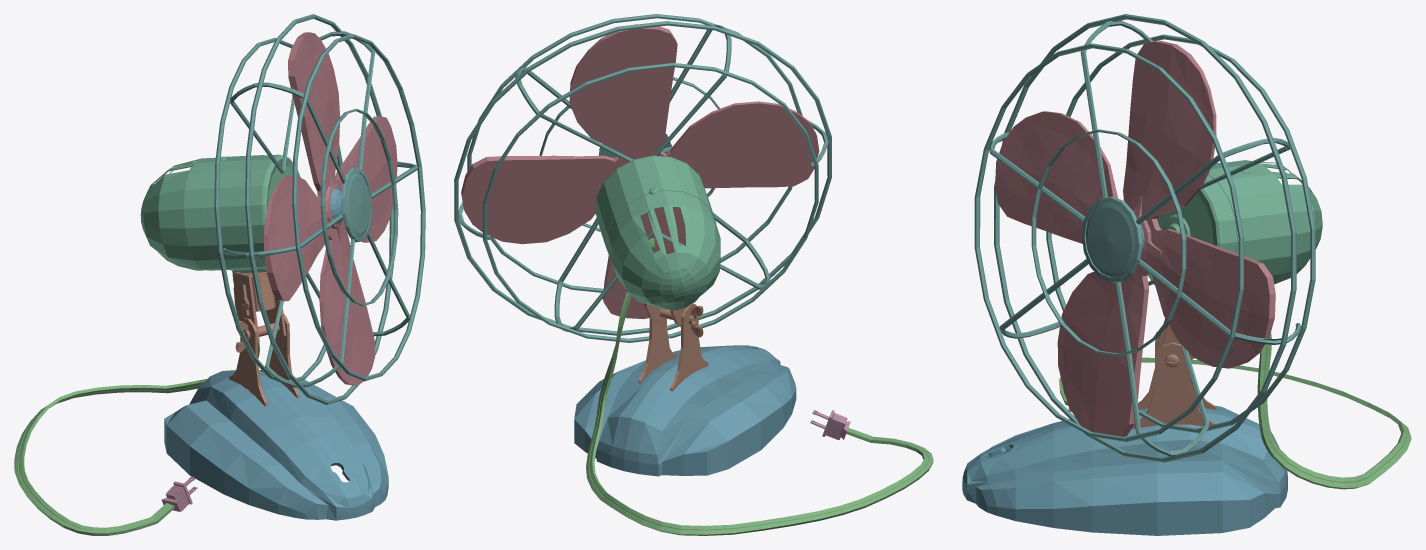
The model's file is dcf35ae14df9_seg.glb.
3 renders of one model, left to right at view 1: azimuth 30°, elevation 25°; view 2: azimuth 150°, elevation 25°; view 3: azimuth 270°, elevation 25°, orthographic. The views are drawn at different scales.
Visible parts, largest first — view 1: p00, p02, p03, p04, p01, p06, p05; view 2: p03, p00, p02, p04, p06, p01, p05; view 3: p03, p02, p00, p04, p06, p01.
Boxes of the visible parts, x1,y1,x2,y2 form: p00: (164, 188, 388, 520); p02: (214, 14, 425, 404); p03: (263, 32, 397, 385); p04: (140, 154, 300, 273); p01: (229, 272, 299, 406); p06: (14, 270, 259, 535); p05: (161, 476, 197, 511); p03: (461, 24, 819, 319); p00: (574, 345, 796, 476); p02: (454, 14, 831, 342); p04: (595, 155, 720, 310); p06: (586, 238, 933, 535); p01: (638, 303, 708, 391); p05: (810, 410, 850, 439); p03: (995, 41, 1275, 436); p02: (974, 14, 1315, 462); p00: (962, 224, 1287, 535); p04: (1147, 160, 1322, 284); p06: (1059, 332, 1411, 489); p01: (1132, 318, 1215, 429).
Size of the model in its own units: 1.9 by 1.82 by 1.55.
